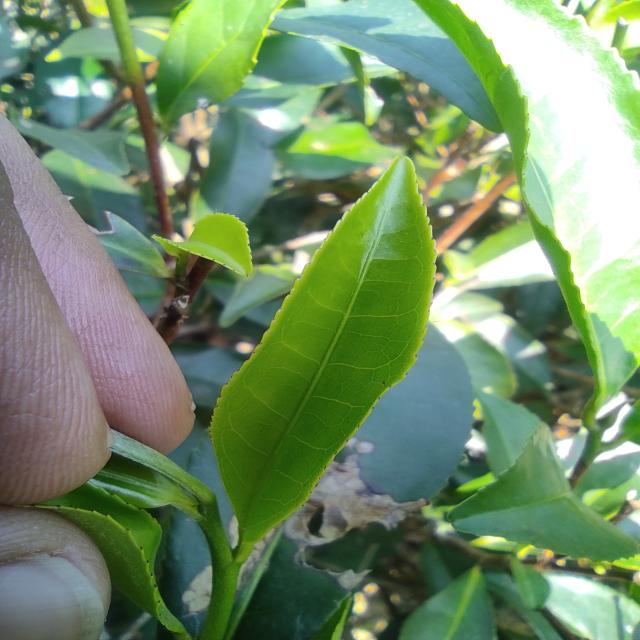Category C 4-7 days: (192, 140, 440, 553)
